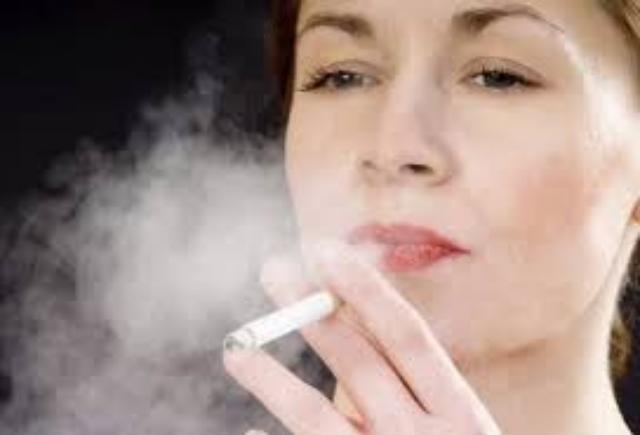SafeDriving: (435, 38, 568, 106), (293, 38, 402, 109)
Smoking: (225, 284, 353, 356)
